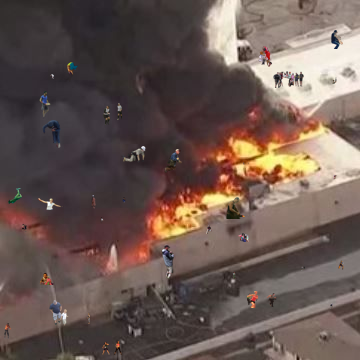Human: (55, 62, 82, 82), (42, 120, 61, 148), (161, 244, 175, 282), (273, 71, 304, 88), (49, 300, 69, 326), (247, 291, 277, 308), (39, 91, 57, 119), (91, 195, 126, 209), (226, 197, 247, 219), (121, 146, 146, 164), (252, 46, 273, 67), (164, 149, 182, 173), (103, 103, 122, 125), (37, 198, 64, 212), (102, 341, 122, 355), (331, 30, 343, 49), (8, 188, 22, 204), (39, 273, 54, 285), (4, 323, 12, 339), (332, 77, 341, 90), (238, 233, 249, 242), (22, 224, 33, 232), (338, 260, 344, 270), (206, 225, 212, 234), (99, 217, 104, 225), (87, 313, 90, 324), (233, 272, 236, 279), (301, 266, 305, 271), (333, 175, 337, 180), (50, 74, 54, 79), (330, 303, 333, 309), (243, 162, 249, 165)
